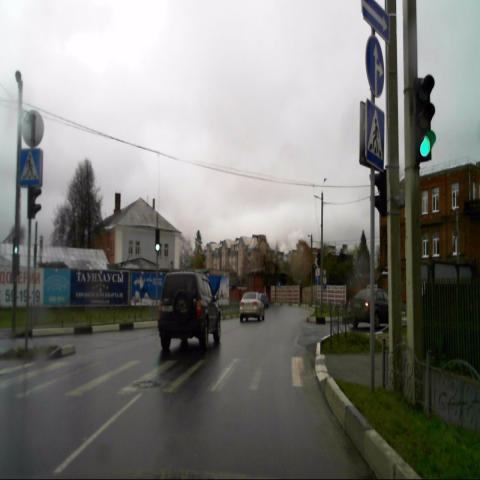5_7_1: (362, 0, 390, 43)
